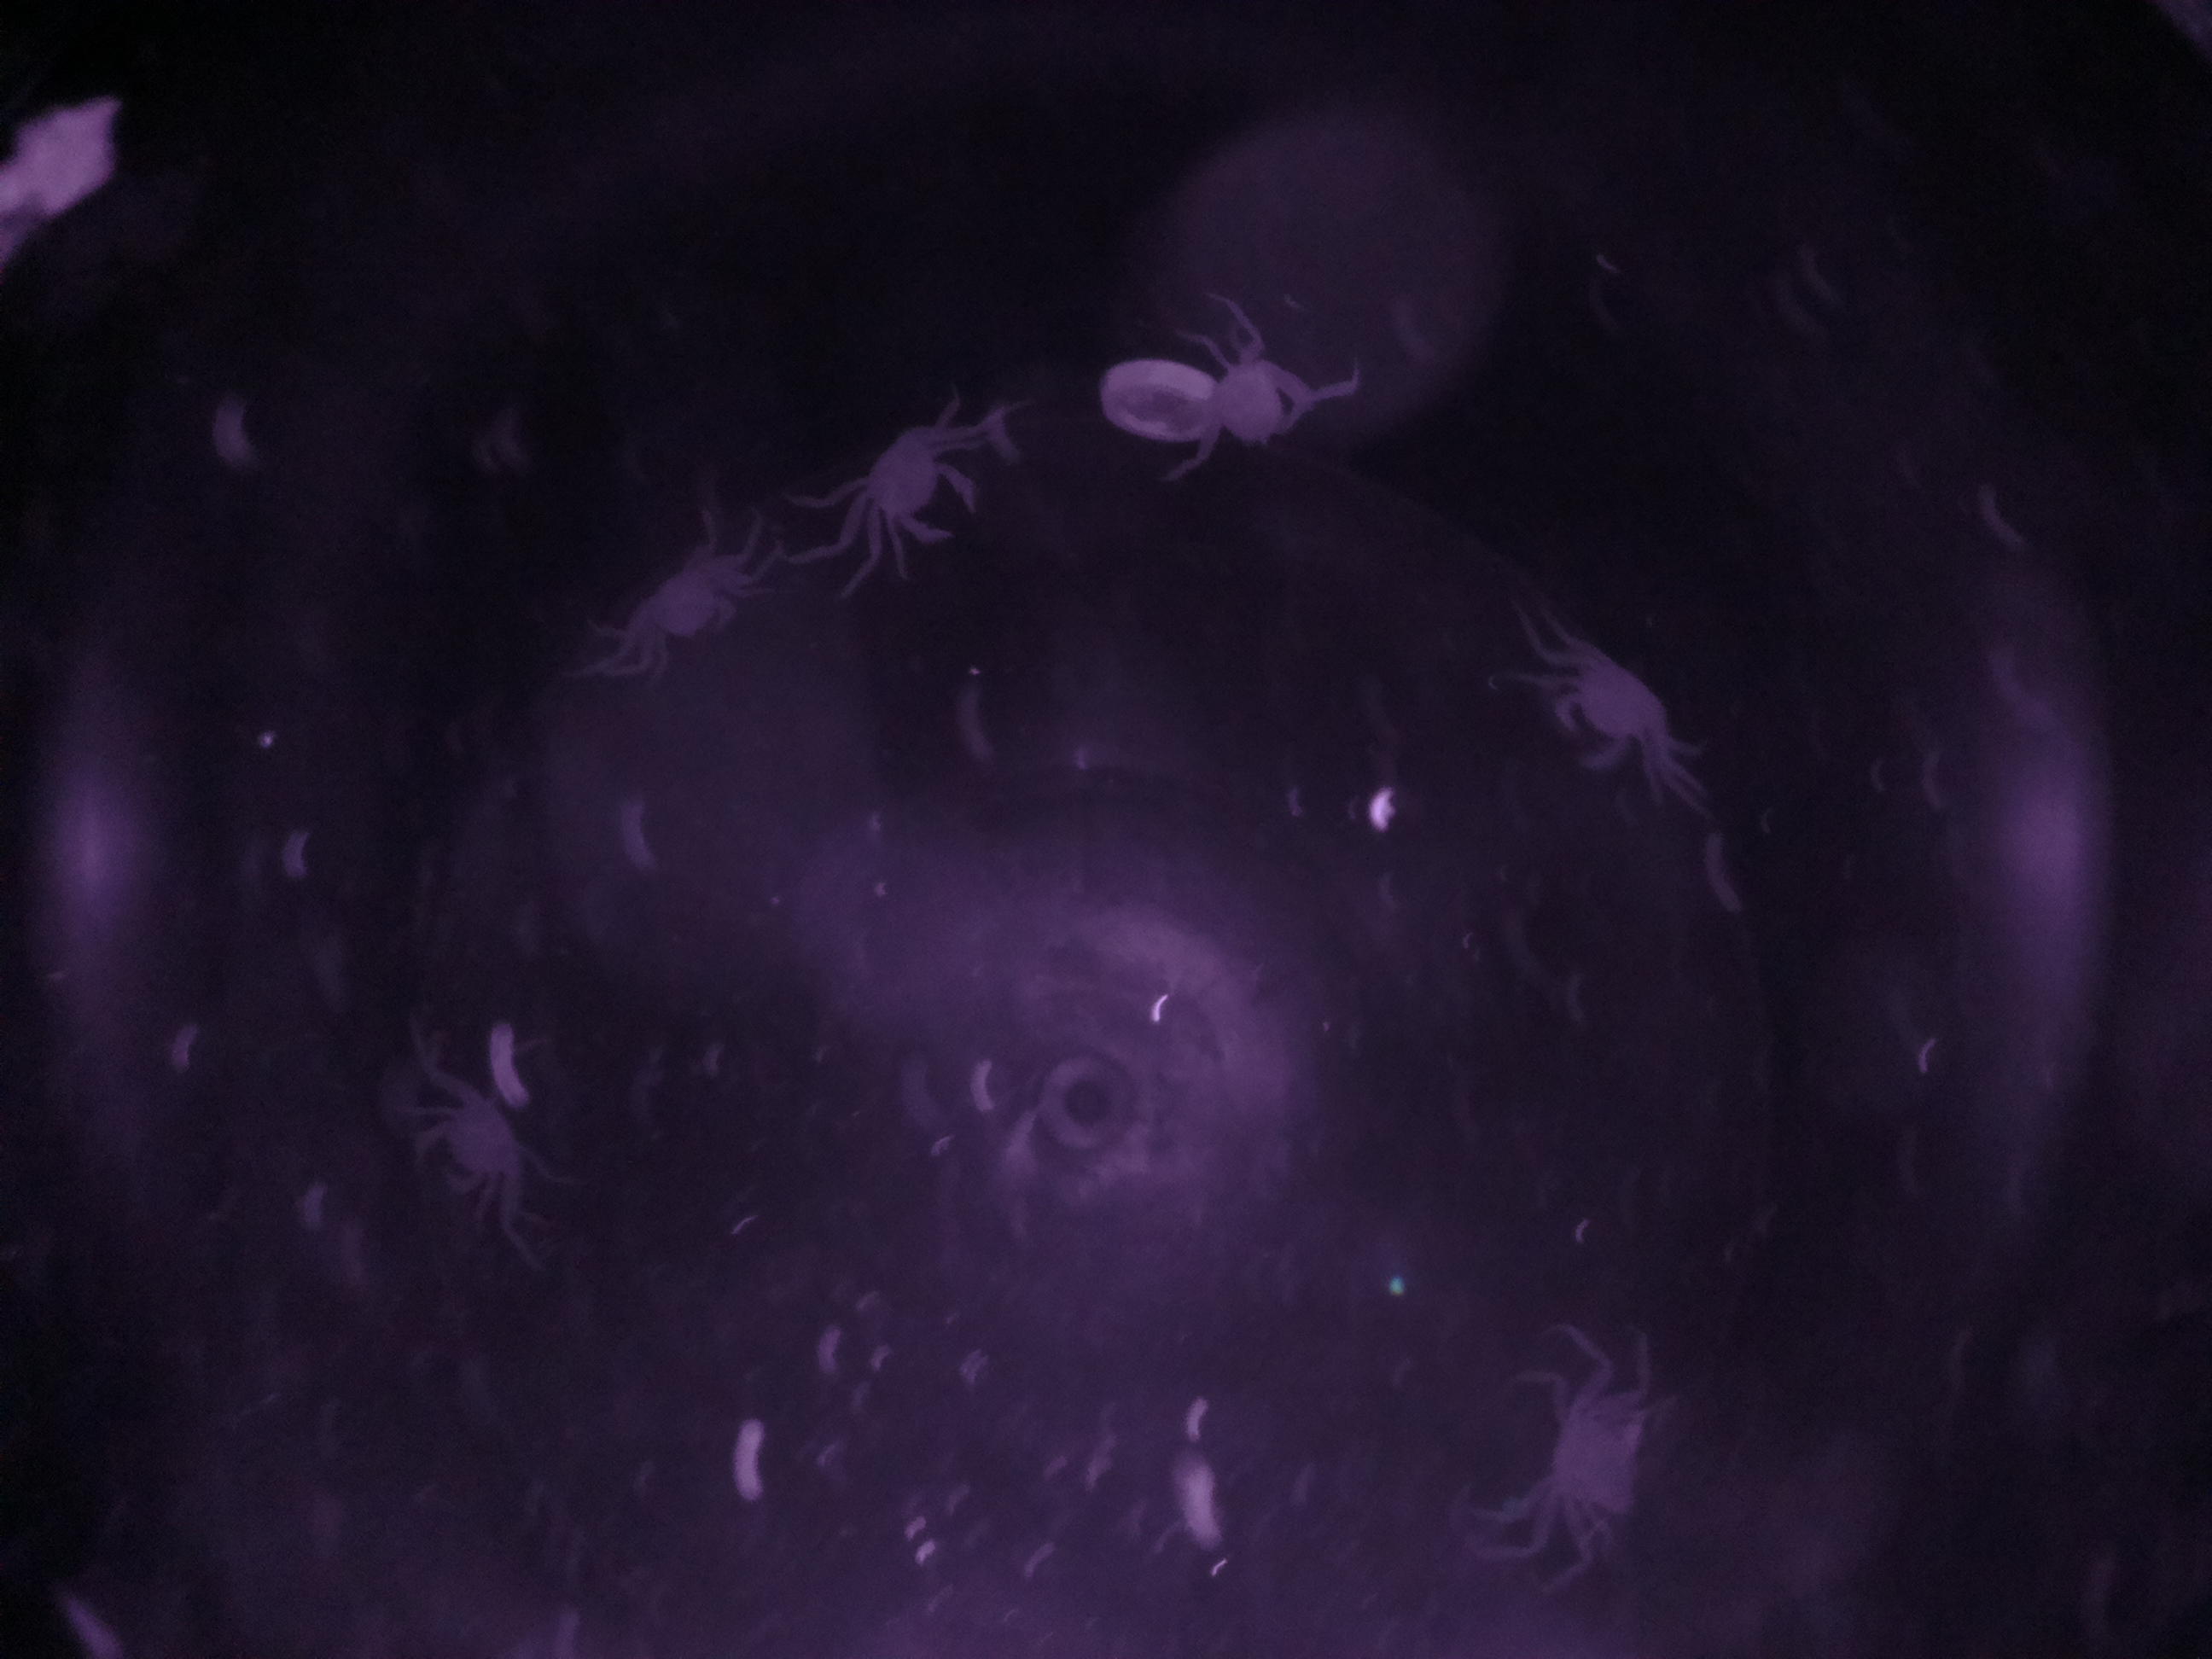Crab: (1496, 1328, 1677, 1563), (1498, 608, 1696, 795), (373, 1035, 563, 1229), (808, 394, 1003, 559), (596, 511, 759, 702)
